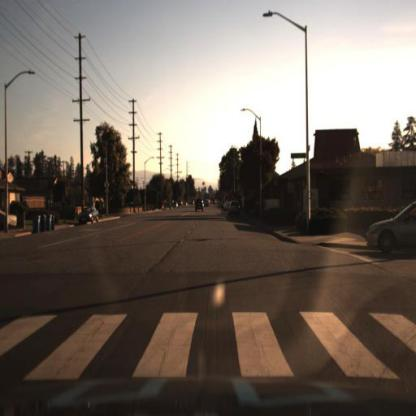car: (367, 203, 416, 260), (73, 201, 102, 230), (74, 204, 100, 228), (192, 196, 208, 219), (228, 199, 243, 222)
